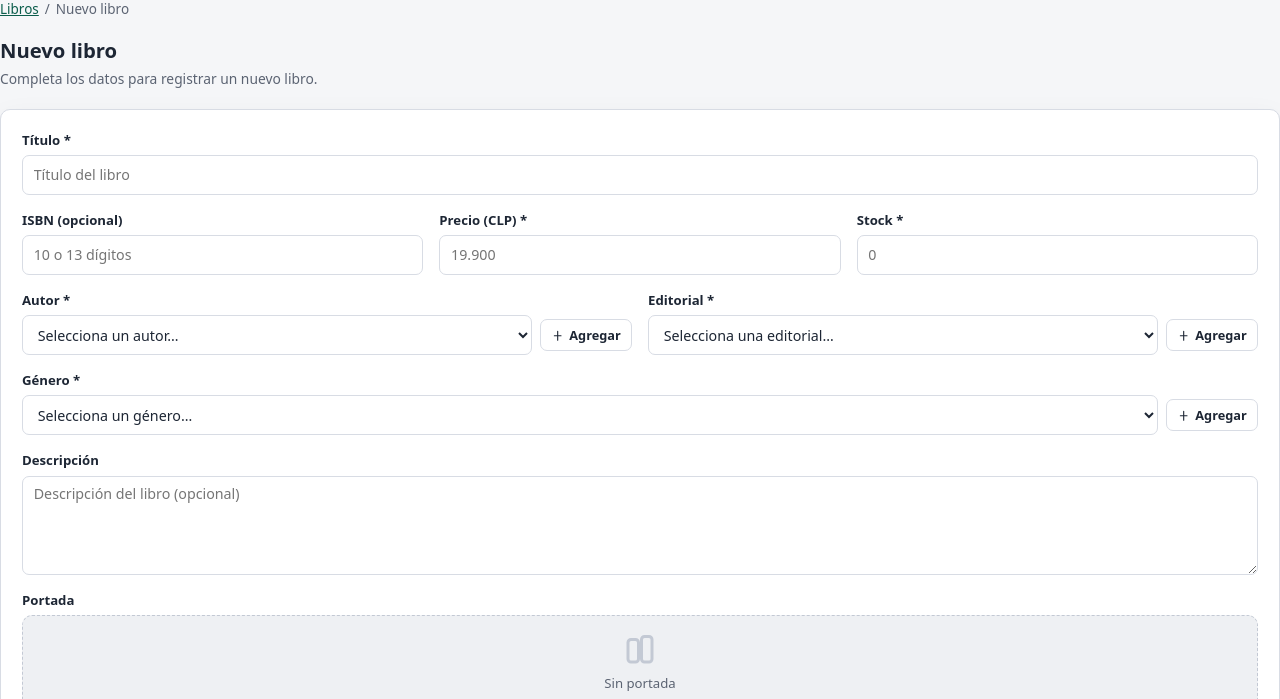
BookFormPage (inline catalog creation) › opens the catalog modal with the right title from Agregar editorial
Click the button with aria-label "Agregar editorial" at (1212,335), box x1=1166 y1=319 x2=1258 y2=351
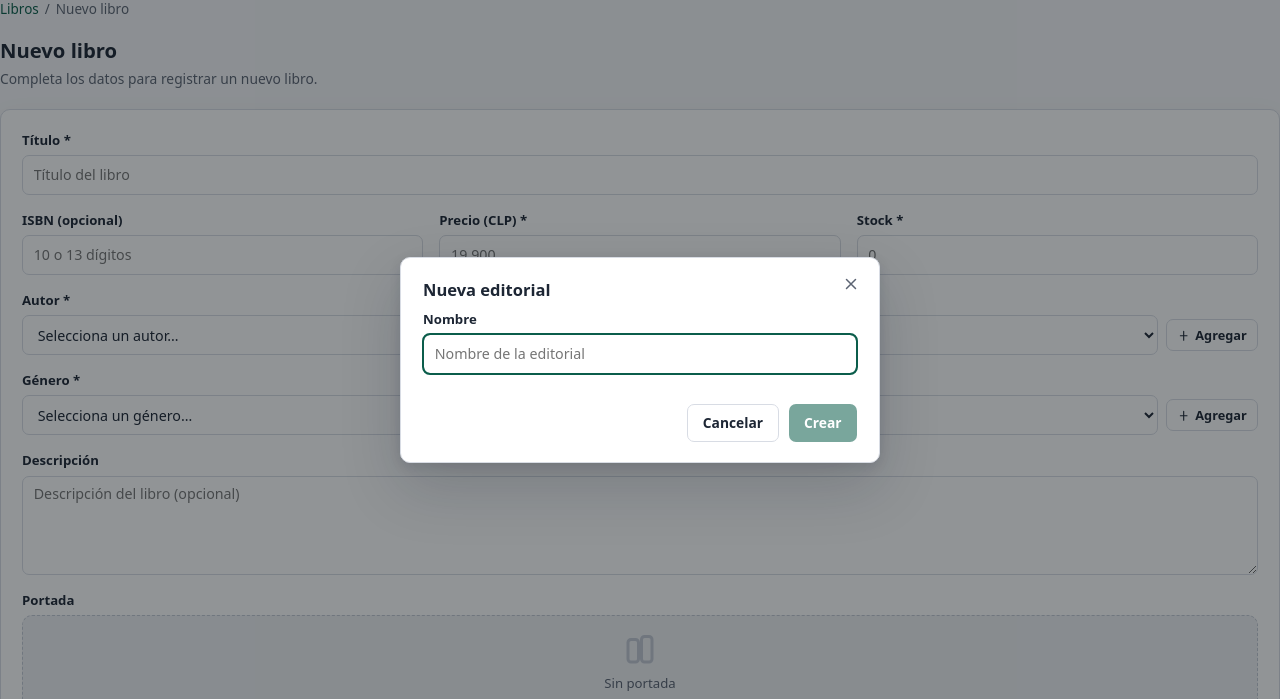
Result: the dialog is shown at x1=400 y1=257 x2=880 y2=463
Result: the heading "Nueva editorial" is shown at x1=423 y1=278 x2=550 y2=301
Result: the field labelled "Nombre" is shown at x1=423 y1=334 x2=857 y2=374
